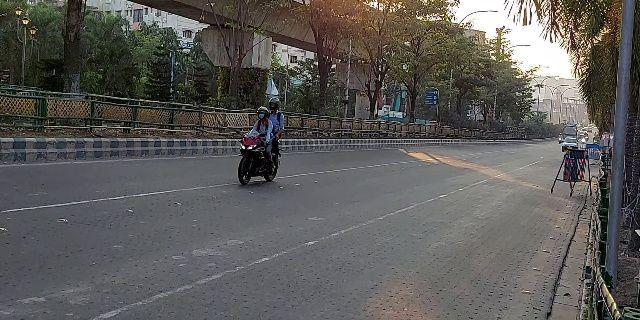Motorbike: (236, 94, 287, 189)
